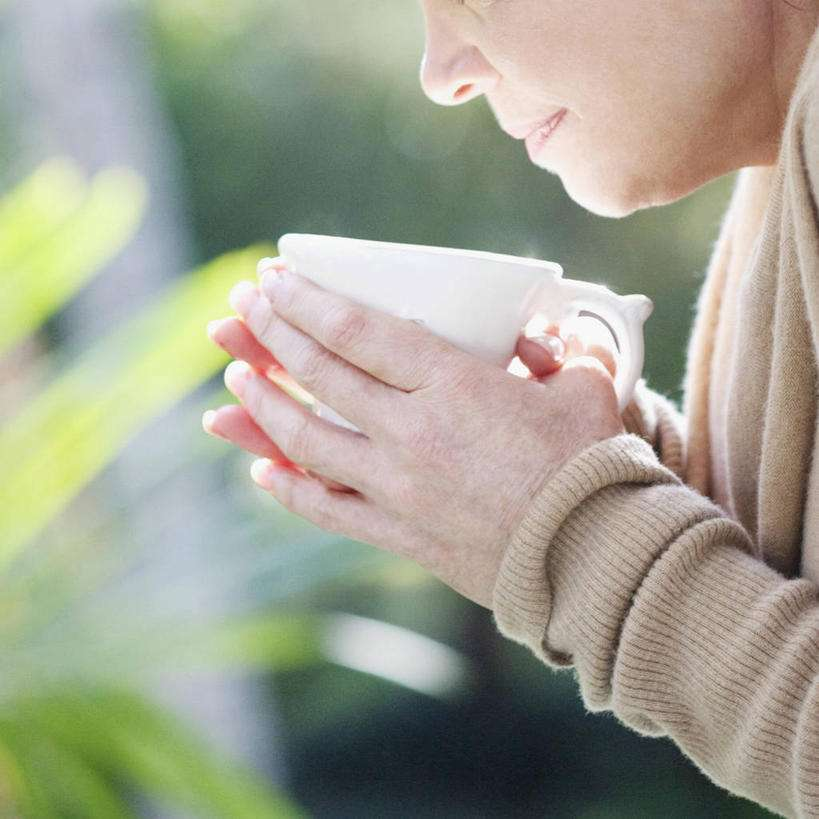no-phone: (195, 221, 656, 602)
